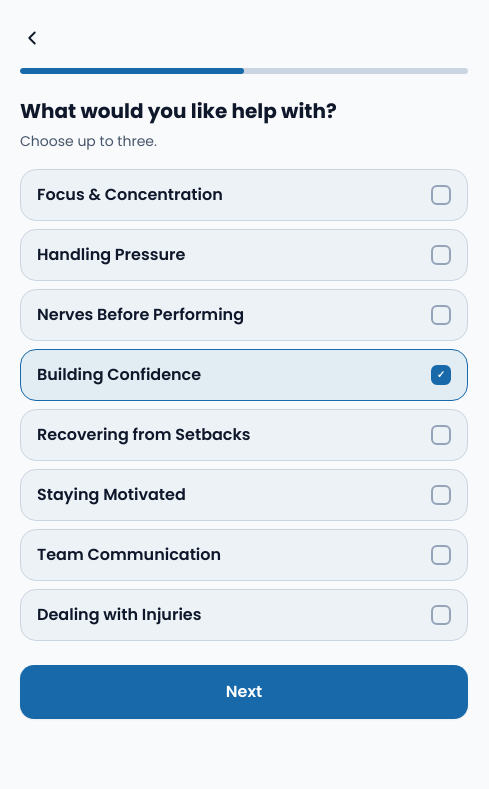
section-scoped edits open only their own section › ?section=goals opens only the two goal questions
The width and height of the screenshot is (489, 789).
Expected: the heading "What would you like help with?" is shown, [20,97,337,125]
Click the button "Next" at (244, 692), box [20,665,468,719]
(page scrolled)
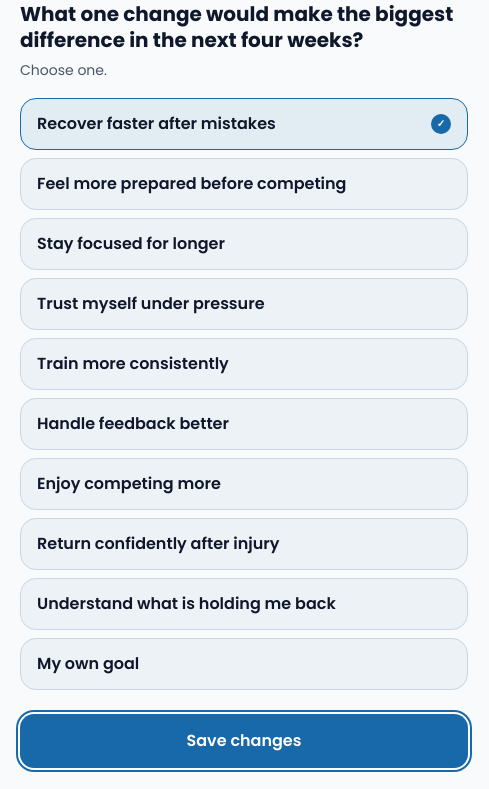
Expected: the heading "What one change would make the biggest difference in the next four weeks?" is shown, [20,1,468,53]
Expected: the button "Save changes" is shown, [20,714,468,768]
